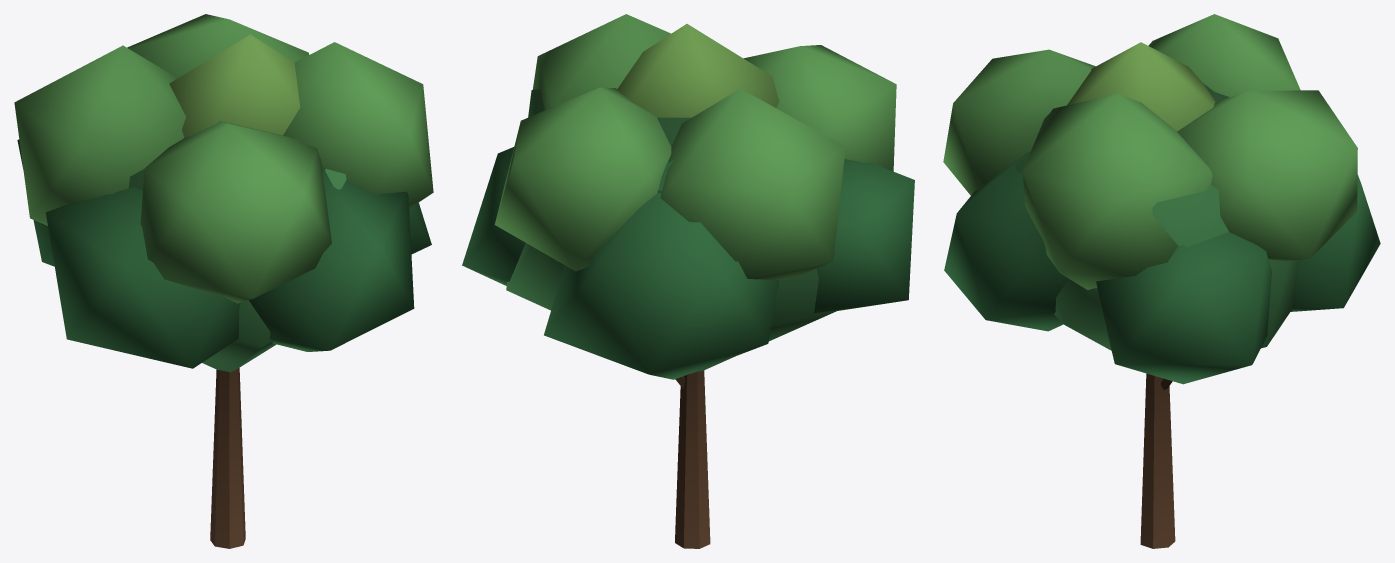
The model's file is arbol-redondo-BD9S0wy7.glb.
The picture shows the model from 3 angles, left to right: view 1: azimuth 30°, elevation 25°; view 2: azimuth 150°, elevation 25°; view 3: azimuth 270°, elevation 25°; orthographic projection.
Visible parts, largest first — view 1: copa.006, copa.005, copa.004, copa.007, copa.008, copa.009, cilindro, copa.002, copa, copa.001, copa.003; view 2: copa.003, copa.004, copa.002, copa.005, copa.006, copa.009, copa.008, copa, cilindro, copa.001; view 3: copa.008, copa.002, copa.001, copa.007, copa.006, copa.004, copa, copa.009, copa.003, cilindro.
Part boxes in pixels (<box>): copa.006: <box>140,121,331,303</box>; copa.005: <box>45,187,240,368</box>; copa.004: <box>14,45,185,225</box>; copa.007: <box>249,167,414,351</box>; copa.008: <box>283,42,433,208</box>; copa.009: <box>169,34,300,137</box>; cilindro: <box>210,368,245,548</box>; copa.002: <box>127,14,309,77</box>; copa: <box>128,169,346,372</box>; copa.001: <box>409,202,431,254</box>; copa.003: <box>17,139,54,266</box>; copa.003: <box>544,160,779,379</box>; copa.004: <box>660,88,845,280</box>; copa.002: <box>494,87,671,271</box>; copa.005: <box>814,159,914,313</box>; copa.006: <box>743,45,896,171</box>; copa.009: <box>617,24,779,117</box>; copa.008: <box>532,14,670,110</box>; copa: <box>506,89,838,373</box>; cilindro: <box>675,370,710,548</box>; copa.001: <box>462,147,525,285</box>; copa.008: <box>1023,94,1212,289</box>; copa.002: <box>1177,90,1357,260</box>; copa.001: <box>1096,232,1271,384</box>; copa.007: <box>944,151,1068,331</box>; copa.006: <box>943,49,1095,195</box>; copa.004: <box>1148,14,1300,97</box>; copa: <box>1015,83,1299,350</box>; copa.009: <box>1067,42,1215,131</box>; copa.003: <box>1290,175,1380,311</box>; cilindro: <box>1140,373,1175,548</box>.
Bounding box in the file's own units: 4.88 × 6.38 × 5.
